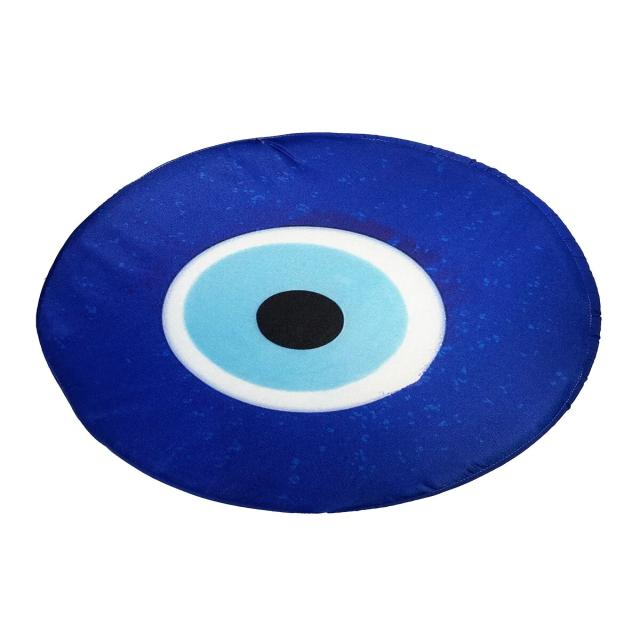Nazar-Boncugu: (35, 133, 602, 516)
